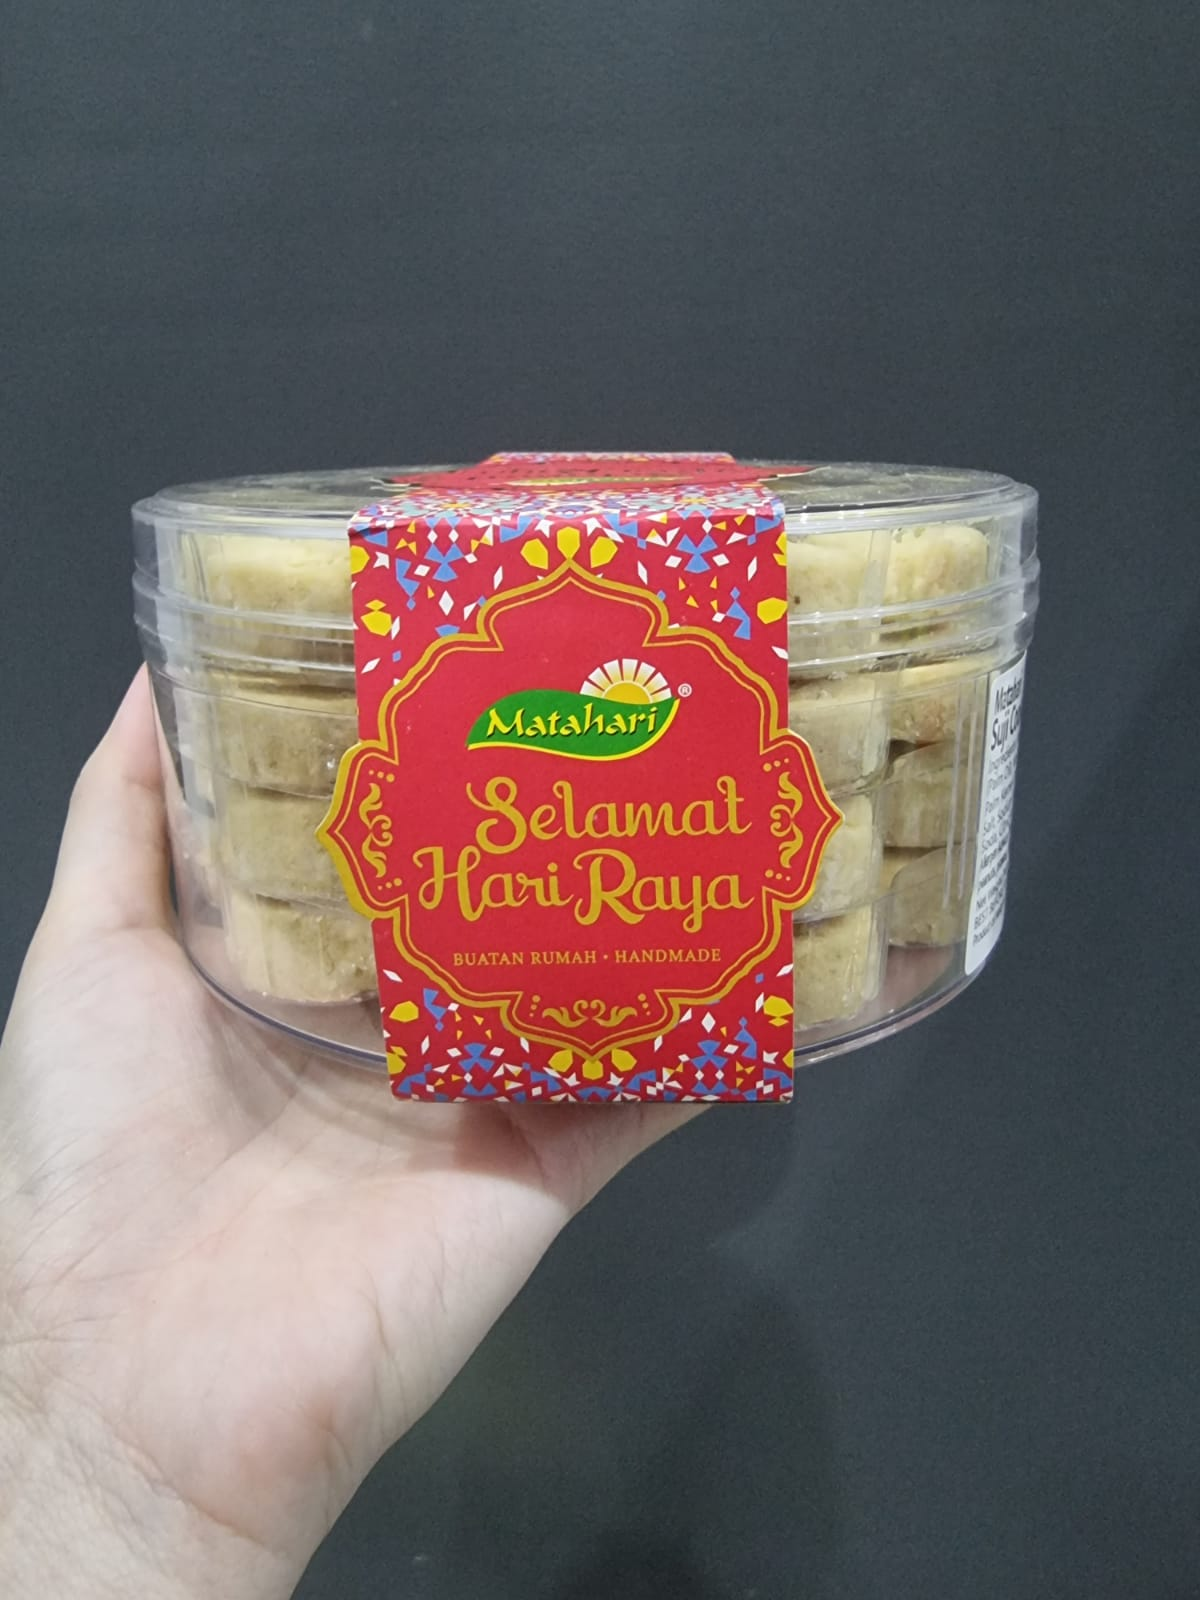Biscuits: (154, 465, 1018, 1044)
